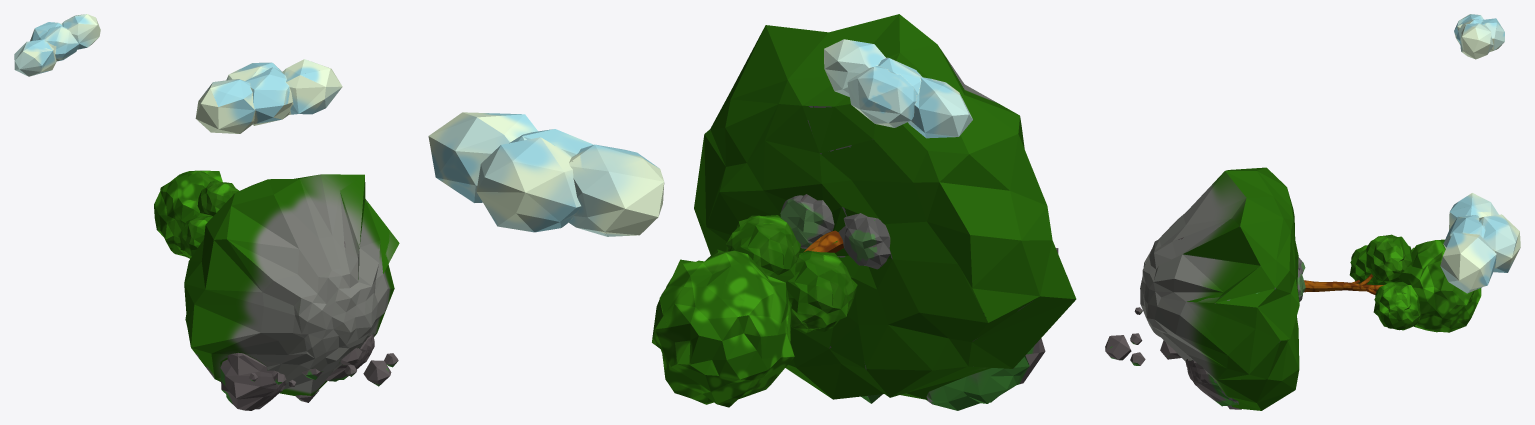
Rendered from floating_island.dae.
The picture shows the model from 3 angles, left to right: view 1: azimuth 30°, elevation 25°; view 2: azimuth 150°, elevation 25°; view 3: azimuth 270°, elevation 25°; orthographic projection. The views are drawn at different scales.
Visible parts, largest first — view 1: Icosphere.007, Icosphere.018, Icosphere; view 2: Icosphere.007, Icosphere.018, Icosphere; view 3: Icosphere.007, Icosphere, Icosphere.018.
Part boxes in pixels (x1=…): Icosphere.007: x1=184, y1=174, x2=399, y2=410; Icosphere.018: x1=14, y1=14, x2=342, y2=133; Icosphere: x1=154, y1=170, x2=239, y2=258; Icosphere.007: x1=694, y1=14, x2=1076, y2=410; Icosphere.018: x1=428, y1=39, x2=972, y2=236; Icosphere: x1=652, y1=215, x2=857, y2=407; Icosphere.007: x1=1105, y1=167, x2=1305, y2=410; Icosphere: x1=1304, y1=234, x2=1481, y2=332; Icosphere.018: x1=1440, y1=14, x2=1520, y2=293.
Size of the model in its own units: 13.22 by 14.54 by 12.85.
3 materials, 3 textured.
